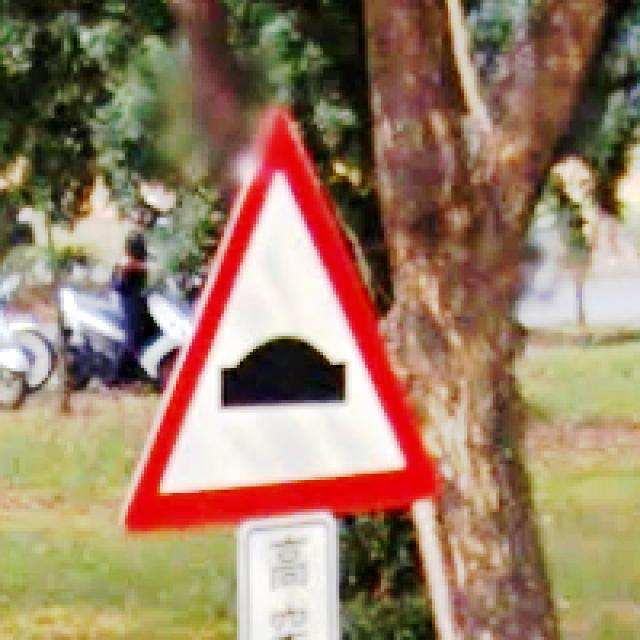hump: (121, 116, 442, 536)
